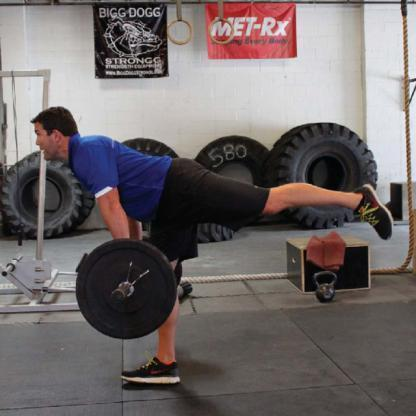barbell: (73, 239, 177, 341)
